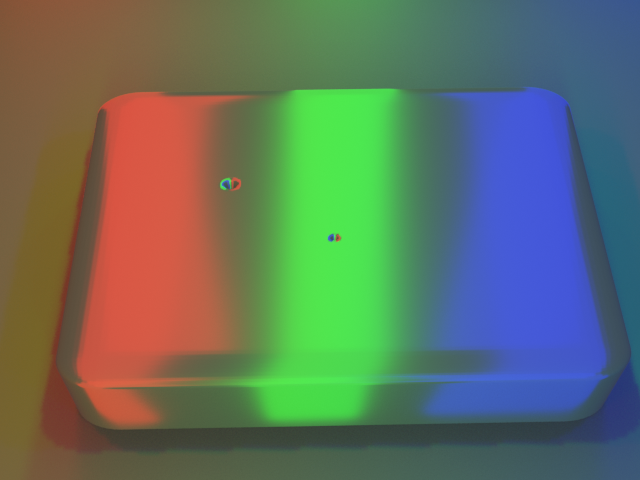dent: (200, 161, 243, 204), (315, 221, 349, 259)
